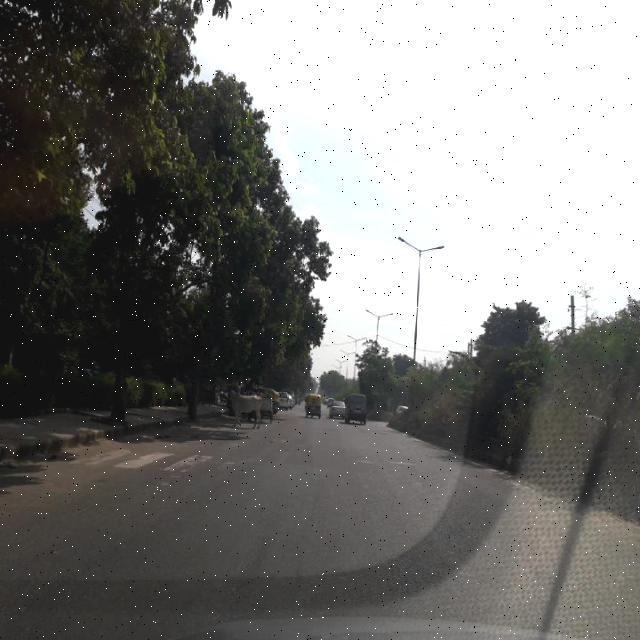D43: (90, 433, 464, 493)
